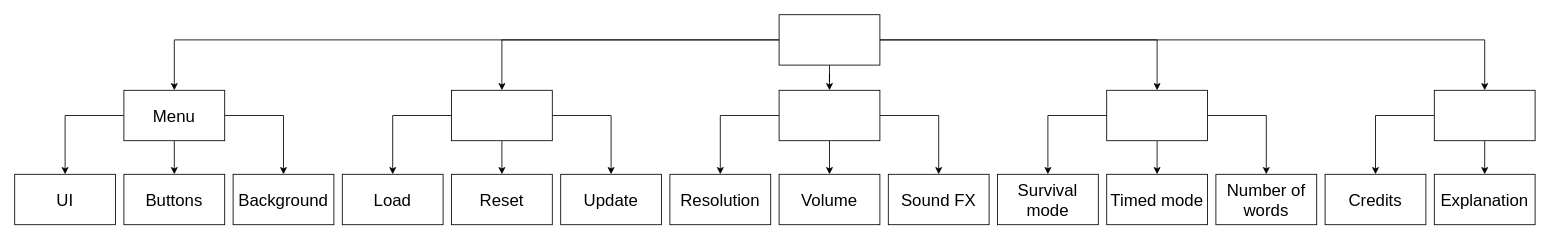
Image size: 1550x239. Some labels were removed from this diagram. Here are the shapes that lost their labels. From the top down, the centre of each, then its label:
[829,39]: wahtype
[501,115]: Scores
[829,115]: Settings
[1157,115]: Selection
[1484,115]: About
